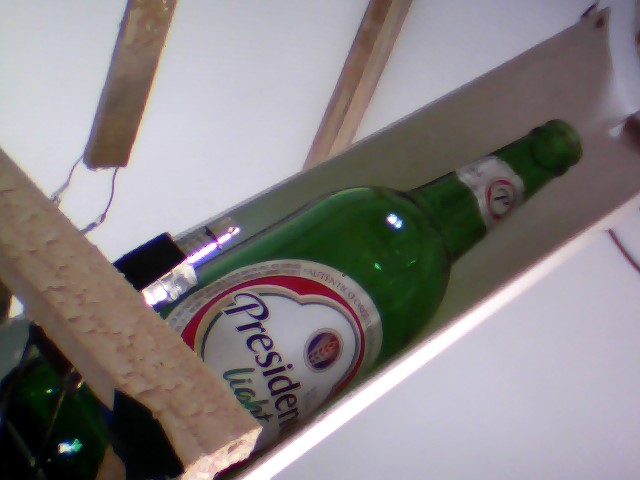vidrio: (209, 116, 591, 454)
